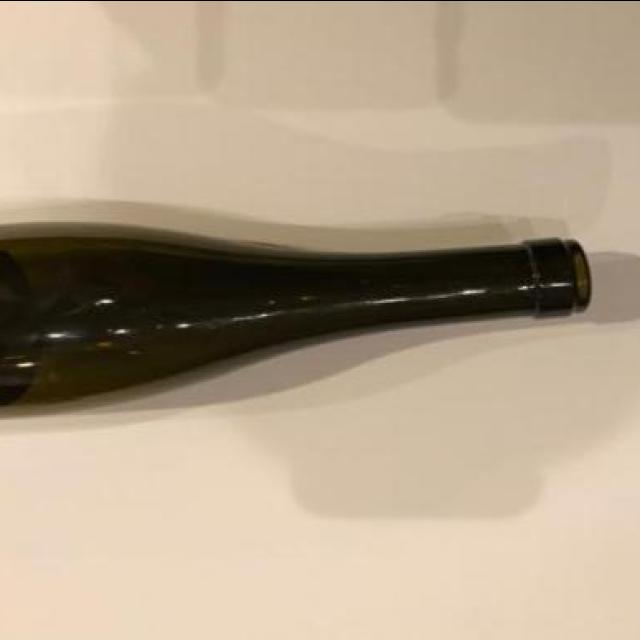kaca: (1, 218, 590, 419)
